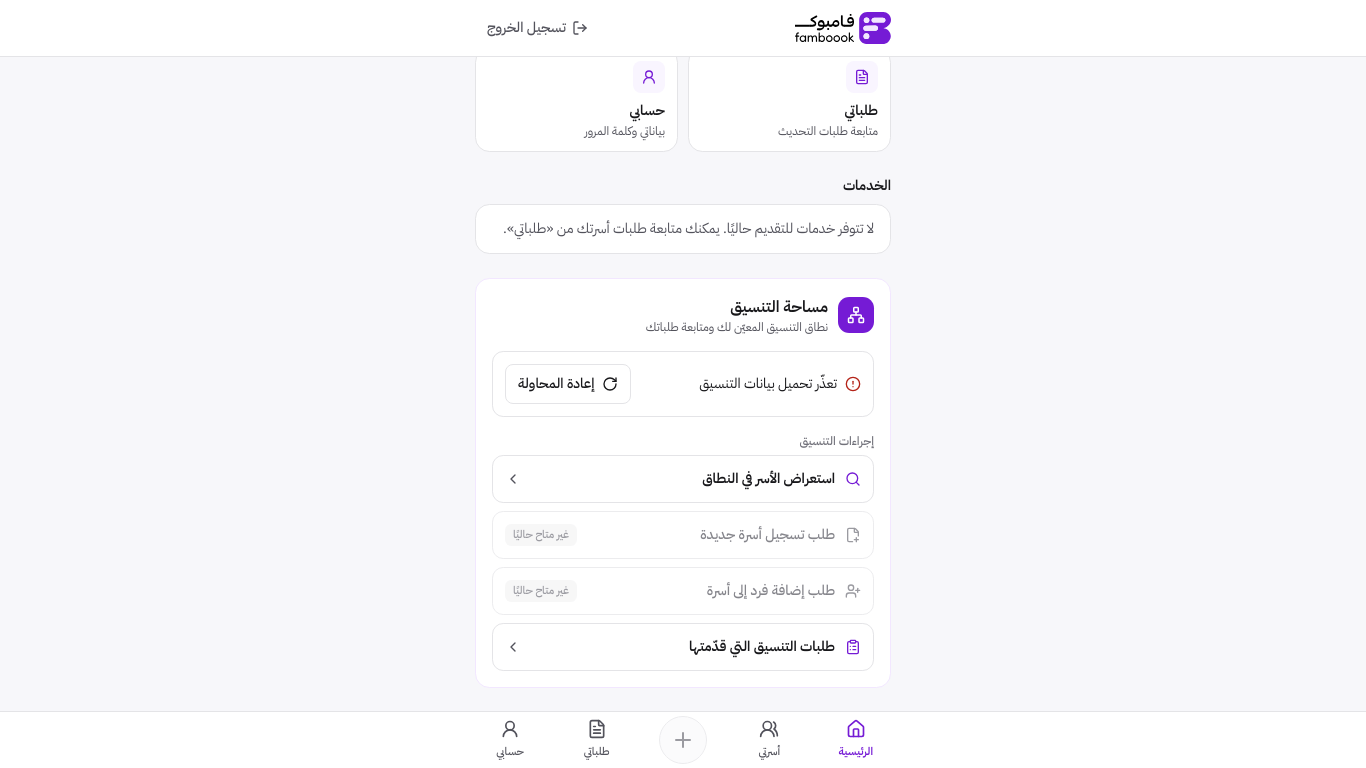
Test: the coordinator section › keeps a coordinator failure inside its section, with a retry, and the family dashboard intact
This screenshot has width=1366, height=768.
(page scrolled)
Expected: the message reads "تعذّر تحميل بيانات التنسيق", [699,373,837,394]
Click the button "إعادة المحاولة" at {"x": 568, "y": 384}, box [505,364,632,404]
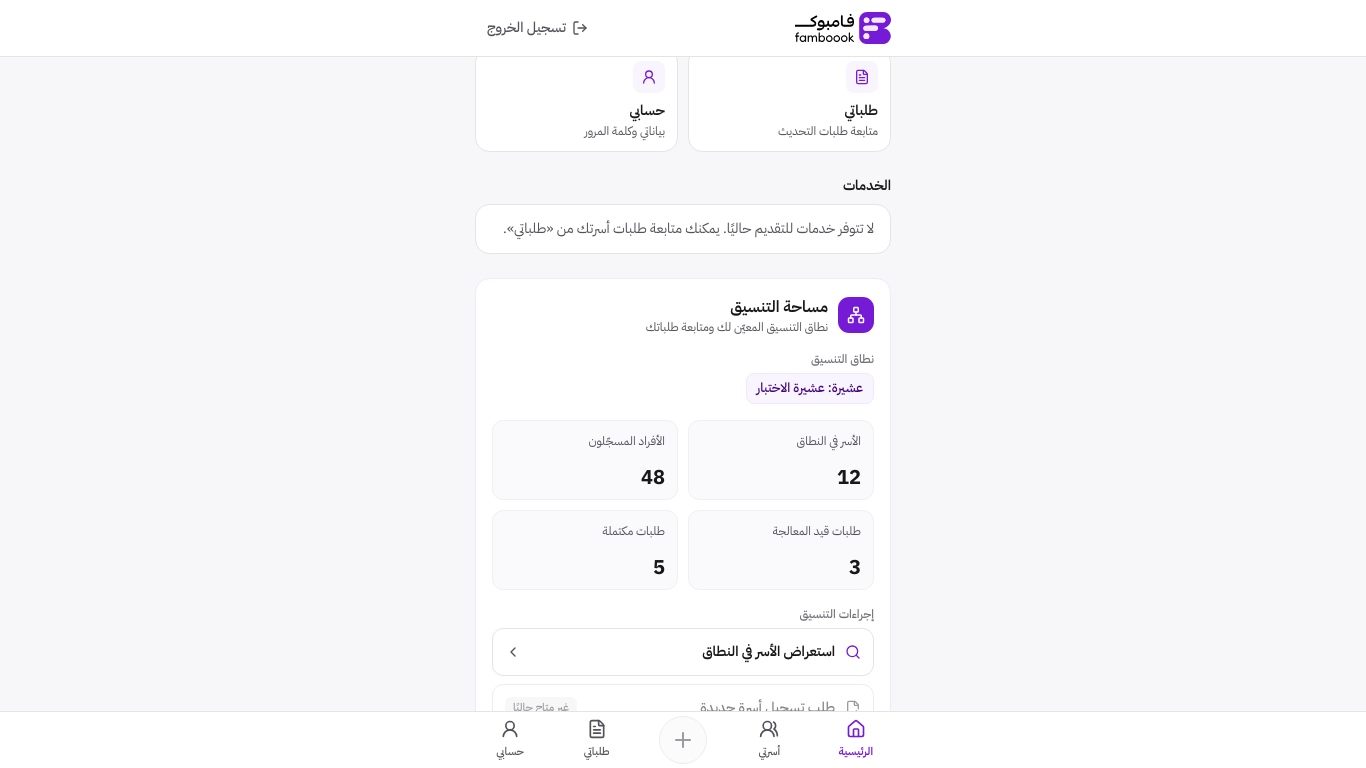
Result: the text "48" is shown at [641,462,665,492]
